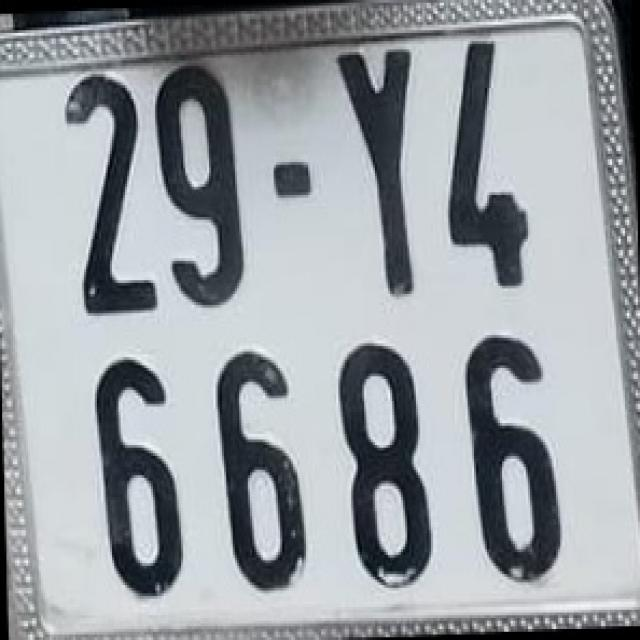2: (56, 64, 162, 322)
4: (439, 33, 538, 297)
6: (457, 327, 569, 585), (209, 341, 310, 593), (89, 352, 188, 602)
8: (336, 330, 440, 590)
9: (153, 58, 252, 313)
Y: (326, 37, 428, 304)
